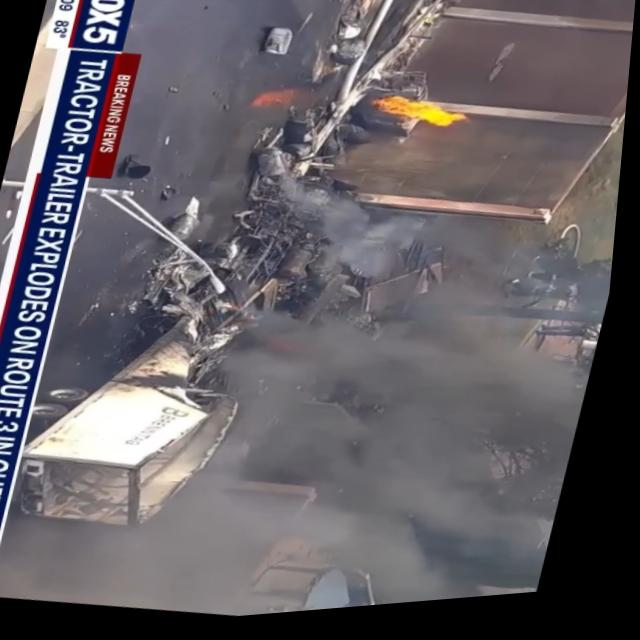Fire: (371, 92, 480, 149)
